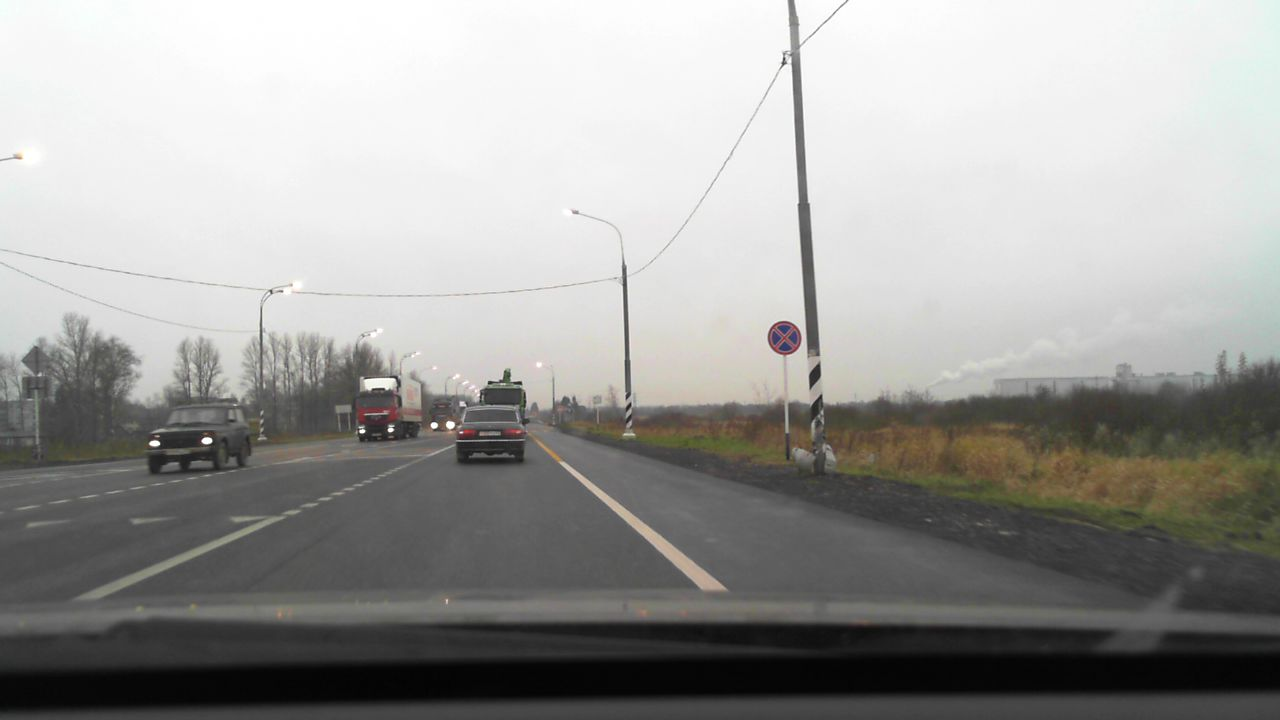No Parking: (767, 320, 801, 355)
